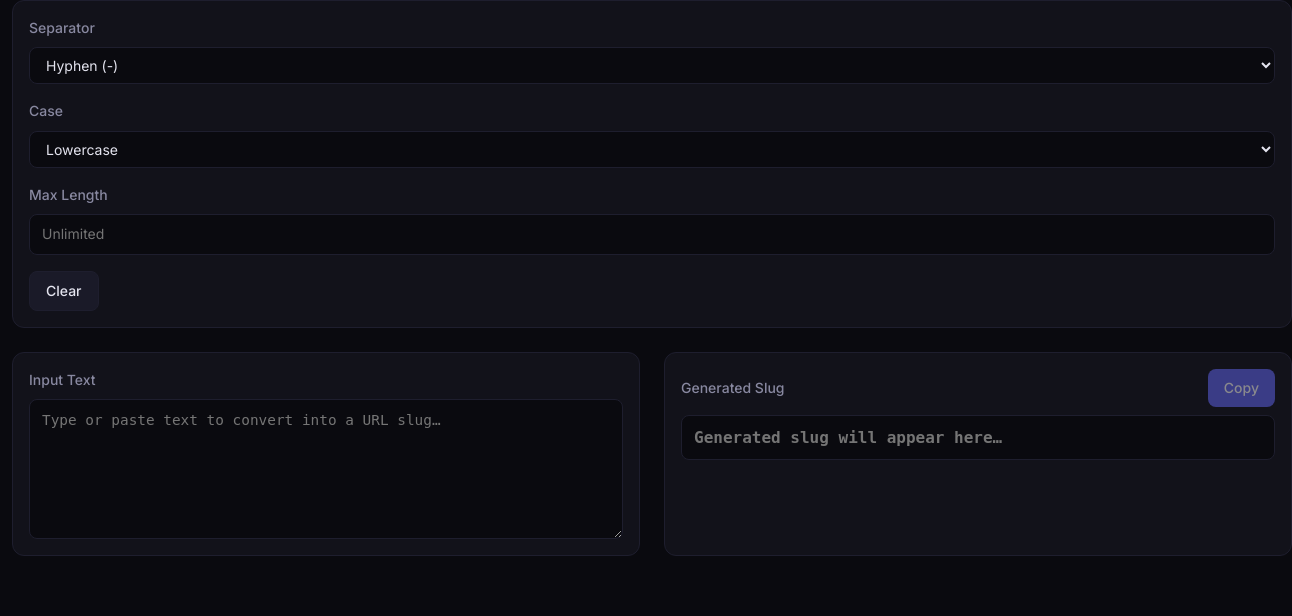
Test: SlugTool Component › handles copy-to-clipboard failure feedback
The image size is (1292, 616).
Type "Awesome Product Title" into the text box labelled "Input Text" at (326, 469), box x1=29 y1=399 x2=623 y2=539
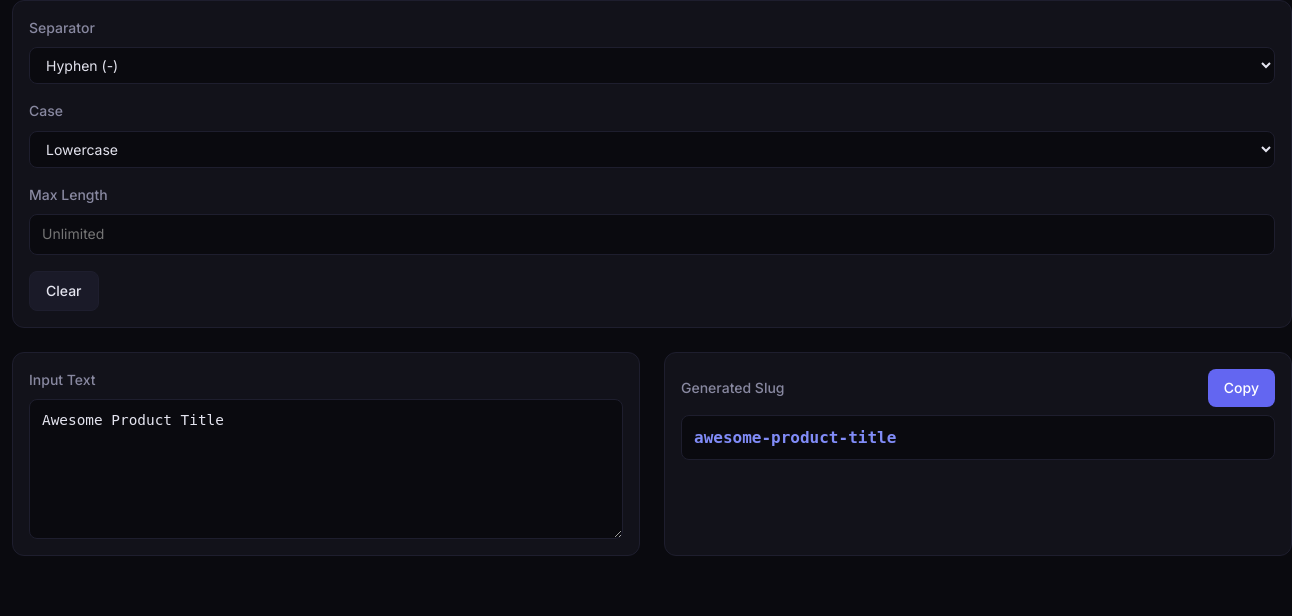
Expected: the button with aria-label "Copy generated slug" is enabled
Click the button with aria-label "Copy generated slug" at (1241, 388), box x1=1208 y1=369 x2=1275 y2=407
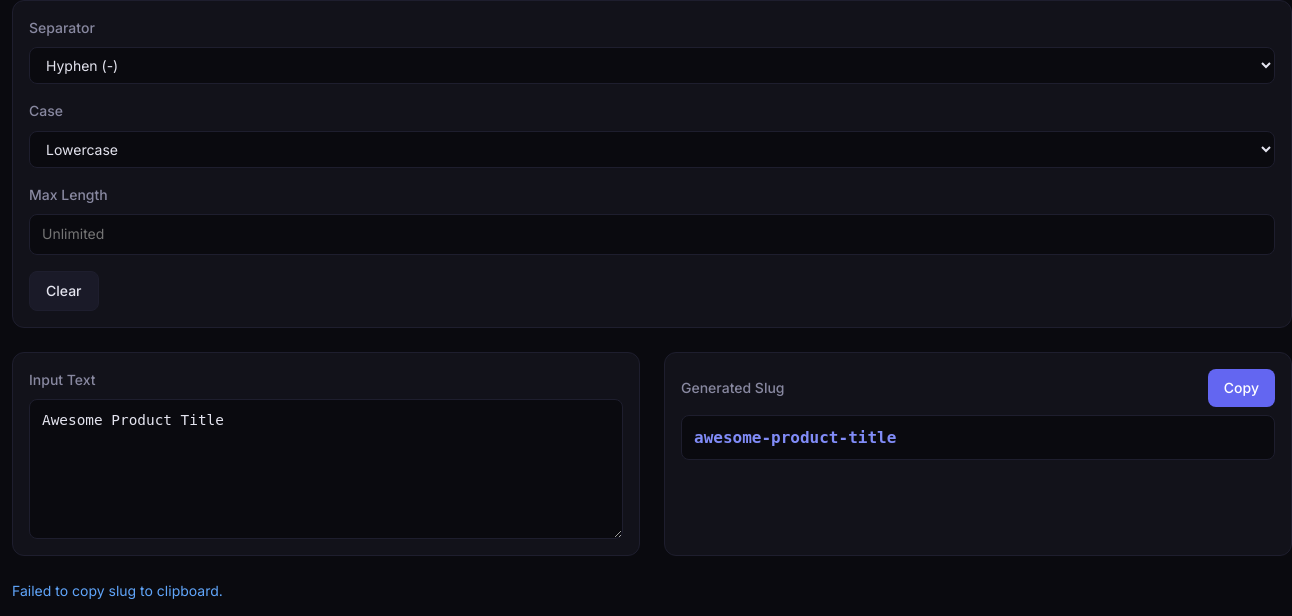
Expected: the message reads "Failed to copy slug to clipboard.", x1=12 y1=582 x2=223 y2=599
